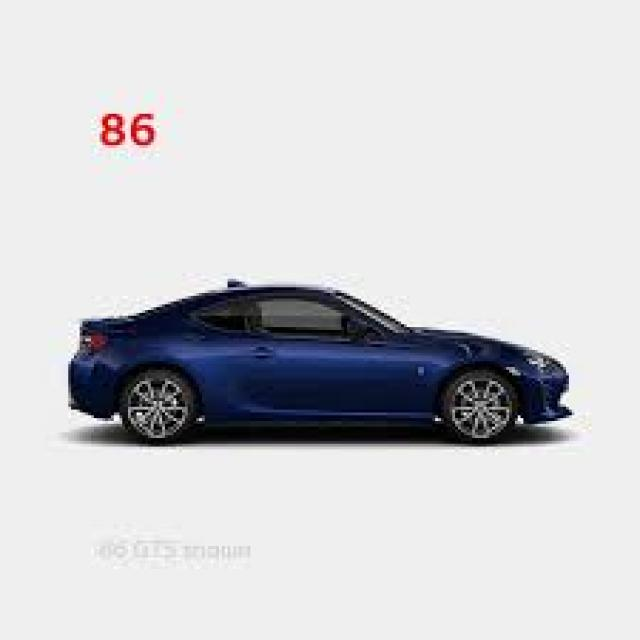Car: (57, 270, 570, 456)
